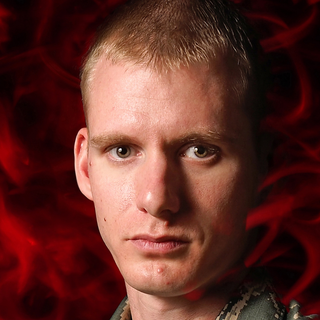eye: (178, 140, 222, 164), (100, 140, 142, 164)
